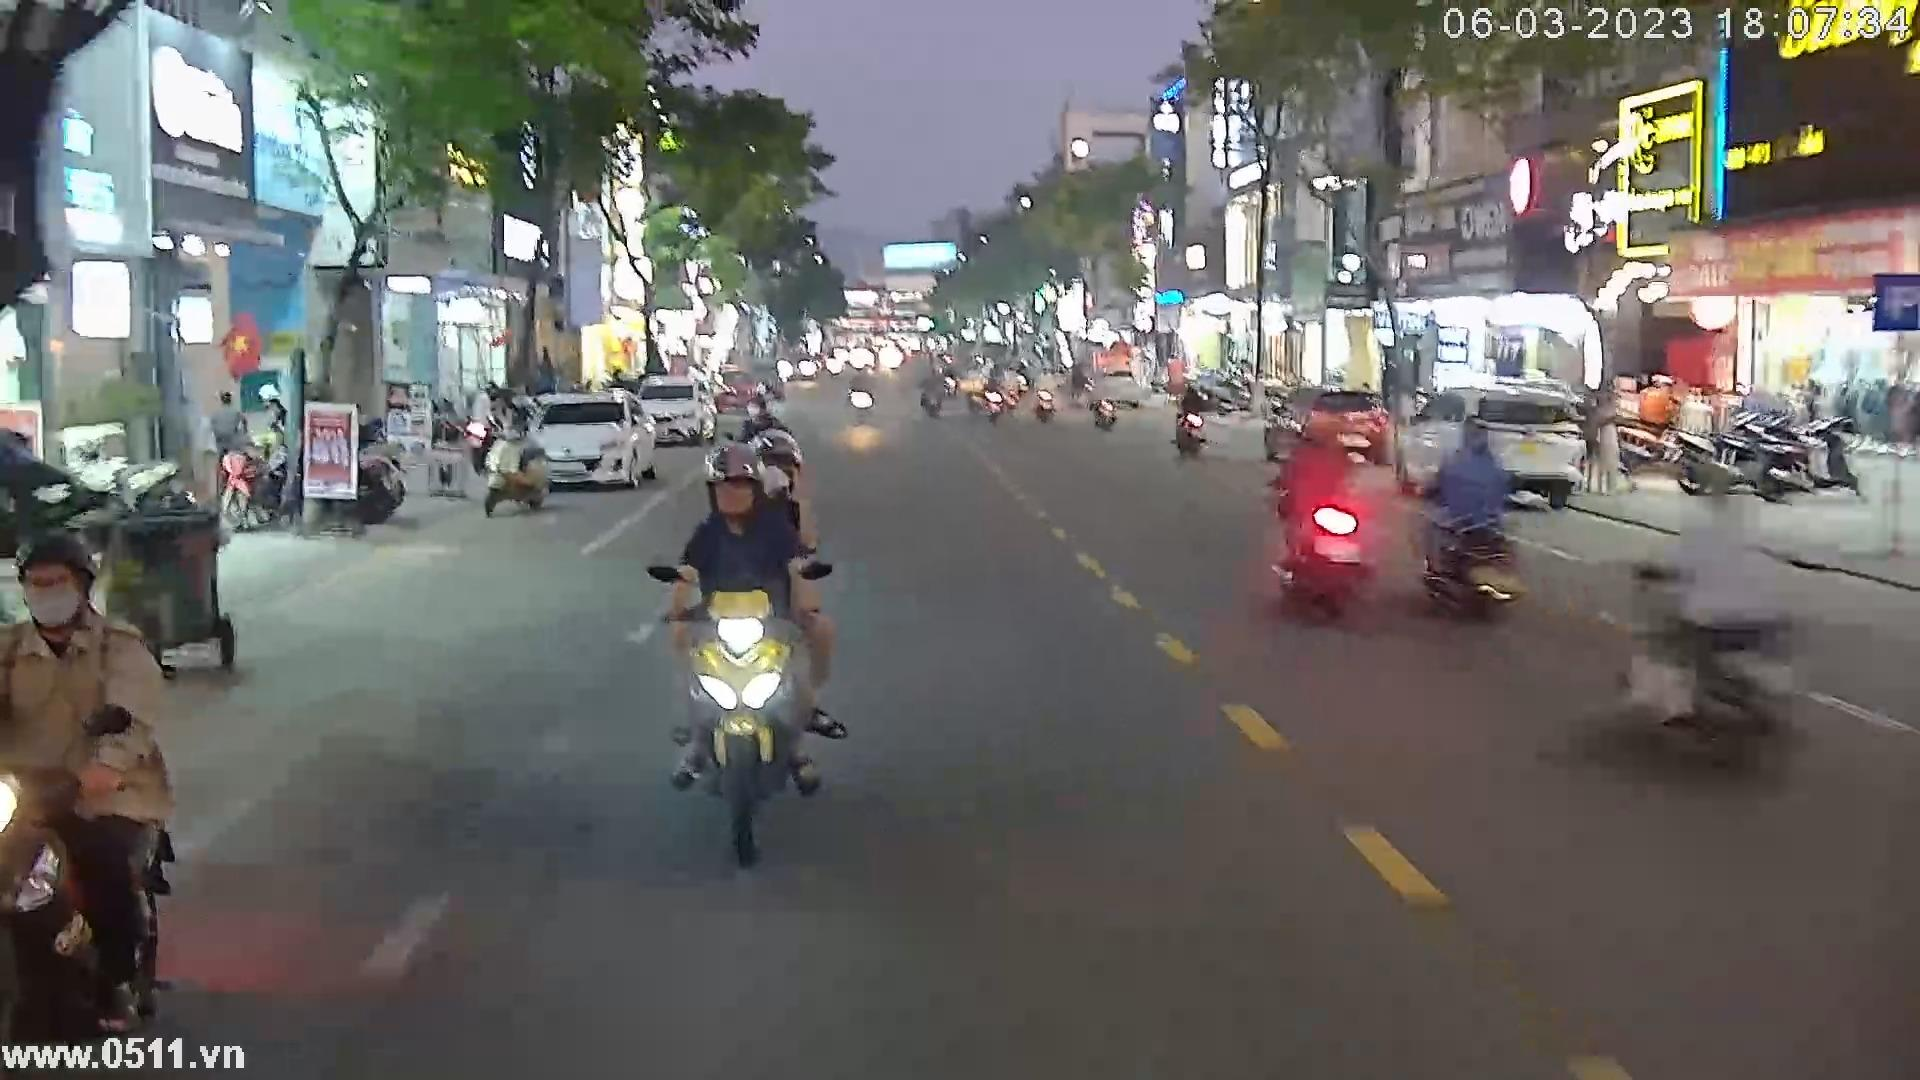car: (1391, 389, 1593, 508), (521, 390, 658, 496), (1261, 385, 1404, 476), (634, 376, 717, 448), (705, 363, 760, 415)
motorcycle: (0, 530, 186, 1080), (641, 425, 847, 866), (1598, 467, 1808, 744), (1404, 410, 1528, 613), (1263, 409, 1377, 624), (1746, 413, 1869, 504), (477, 393, 546, 520), (1168, 380, 1212, 455), (845, 360, 878, 423), (918, 368, 949, 422), (1033, 368, 1059, 426)
parking_sign: (1870, 266, 1920, 338)
